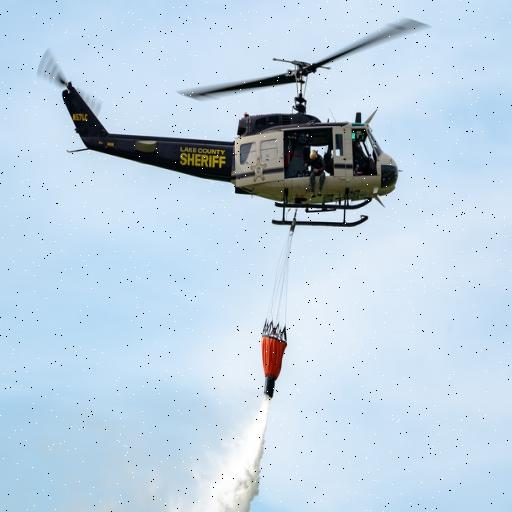helicopter: (40, 21, 426, 230)
